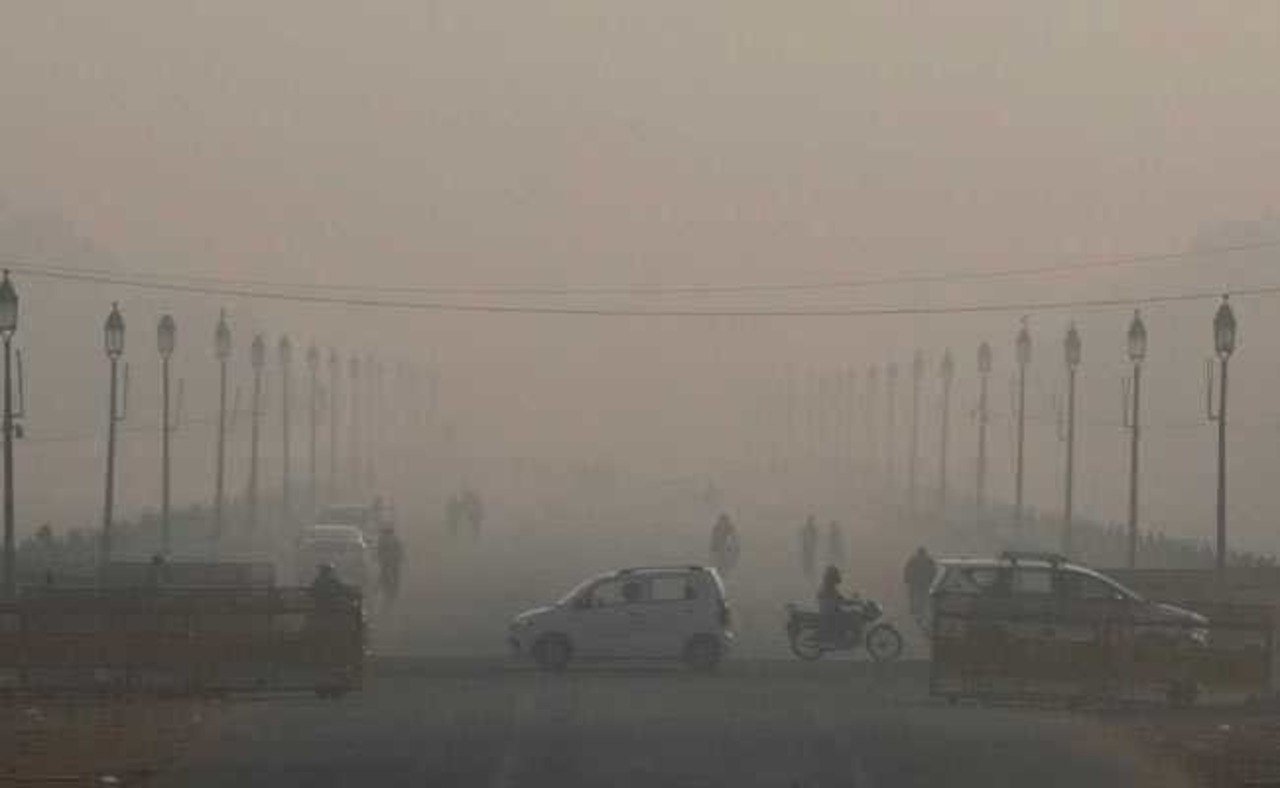car: (922, 552, 1216, 692), (504, 564, 736, 673), (297, 524, 366, 584)
motorcycle: (782, 599, 898, 662), (907, 574, 936, 619), (376, 555, 405, 595)
person: (817, 564, 869, 646), (379, 518, 401, 596), (903, 539, 935, 587), (712, 513, 736, 570), (798, 511, 815, 566), (830, 513, 844, 566)
